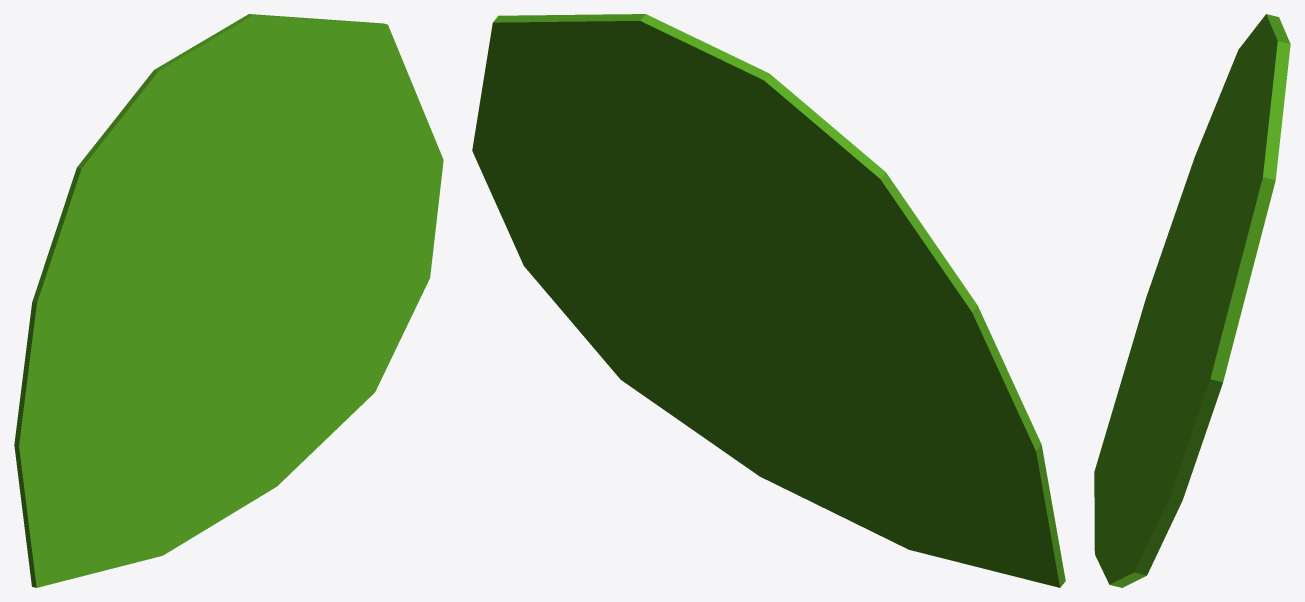
The model's file is Isl_5_Leaf_1.fbx.
3 views of the same model, side by side, from view 1: azimuth 30°, elevation 25°; view 2: azimuth 150°, elevation 25°; view 3: azimuth 270°, elevation 25° (orthographic). The views are drawn at different scales.
Parts seen in each view (by area): view 1: Isl_5_Leaf_1; view 2: Isl_5_Leaf_1; view 3: Isl_5_Leaf_1.
Boxes of the visible parts, bbox=[...] form: Isl_5_Leaf_1: bbox=[14, 14, 443, 587]; Isl_5_Leaf_1: bbox=[472, 14, 1065, 587]; Isl_5_Leaf_1: bbox=[1094, 14, 1290, 587].
Size of the model in its own units: 93.69 by 25.95 by 90.95.
Materials: 1 (1 with a texture image).
